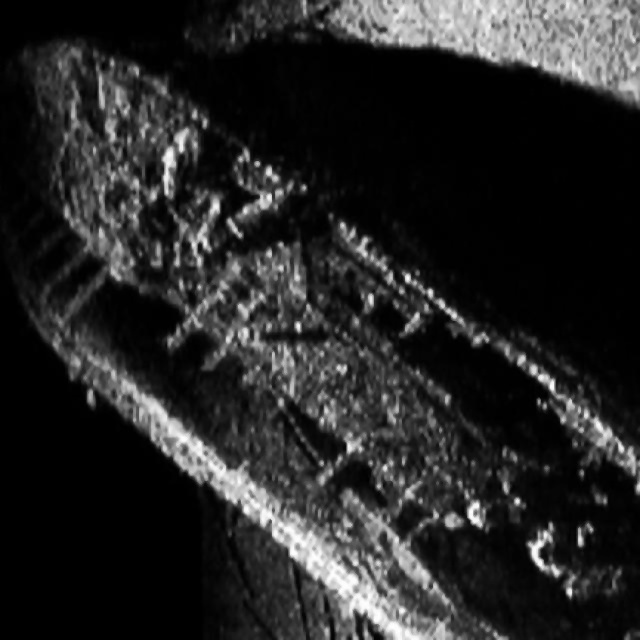Ship: (1, 24, 639, 640)
